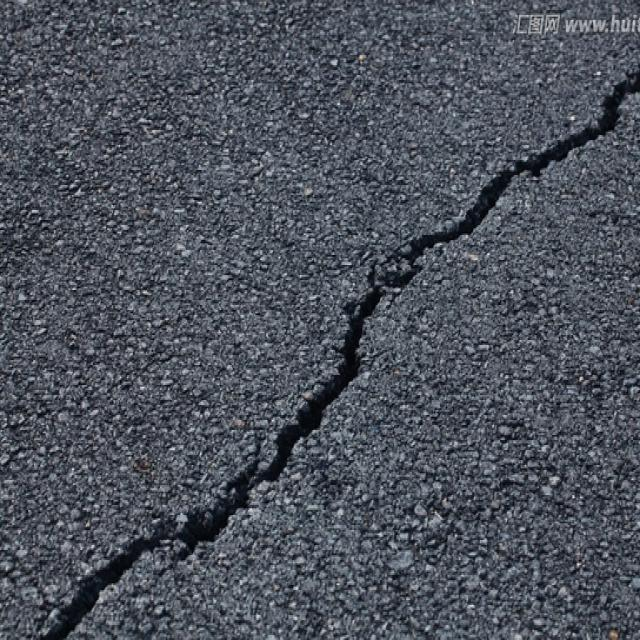Diagonal: (41, 68, 640, 639)
